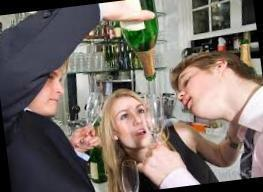Drunk: (112, 97, 150, 148), (175, 74, 222, 114)
